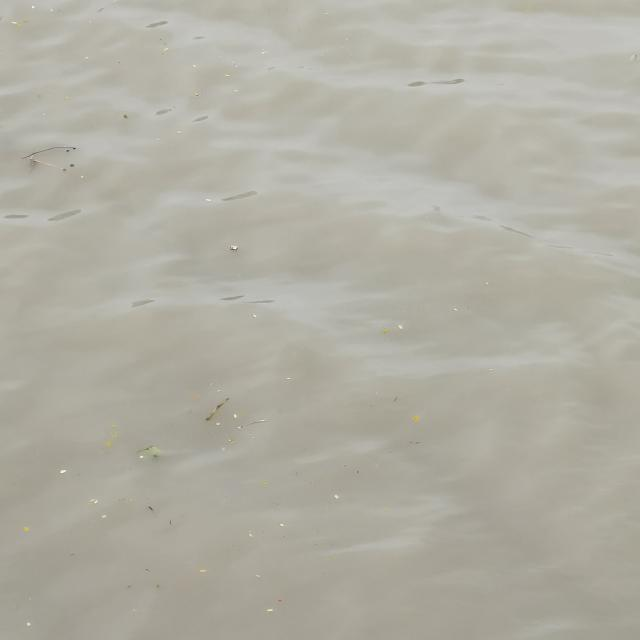Organic Debris: (23, 141, 111, 177), (198, 395, 242, 427), (97, 423, 120, 450), (70, 495, 106, 508), (333, 489, 354, 508), (241, 417, 266, 430), (261, 608, 284, 621), (46, 466, 68, 476), (14, 523, 34, 534), (25, 620, 38, 630)
Plastic: (129, 442, 167, 472), (228, 245, 248, 255)
